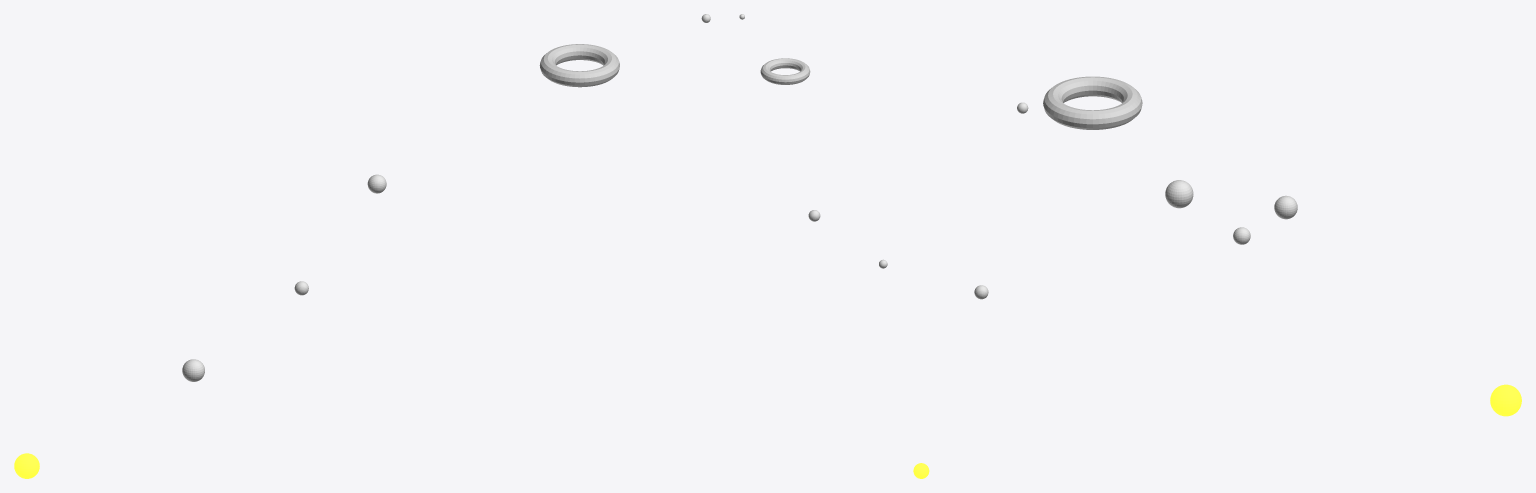
Rendered from torus_and_spheres_explosion.glb.
3 renders of one model, left to right at view 1: azimuth 30°, elevation 25°; view 2: azimuth 150°, elevation 25°; view 3: azimuth 270°, elevation 25°, orthographic. The views are drawn at different scales.
Parts seen in each view (by area): view 1: Torus; view 2: Torus; view 3: Torus, Sphere.004, Sphere.003.
Boxes of the visible parts, x1,y1,x2,y2 form: Torus: (539,44,619,87); Torus: (760,58,810,84); Torus: (1043,76,1142,129); Sphere.004: (1490,384,1521,416); Sphere.003: (1165,180,1193,208).
Bounding box in the file's own units: 17.94 × 16.75 × 12.68.
